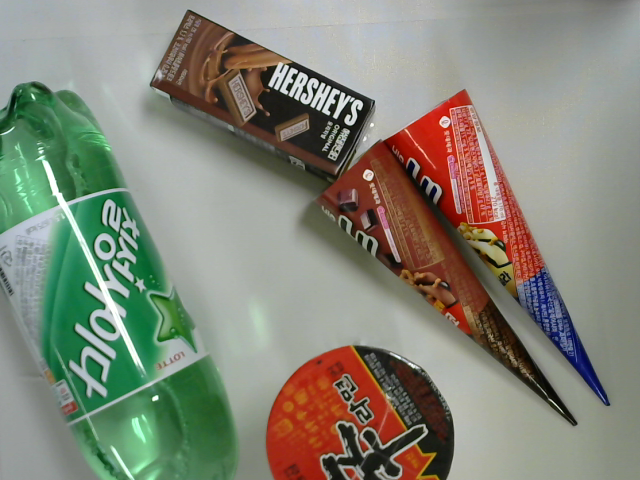Chilseong_Cider_1.5L: (1, 79, 237, 480)
Choco_E_Mong: (147, 8, 375, 182)
Sinramen_small: (263, 343, 455, 480)
World_Cone_Banila: (381, 90, 611, 409)
World_Cone_Choco: (311, 139, 581, 429)
